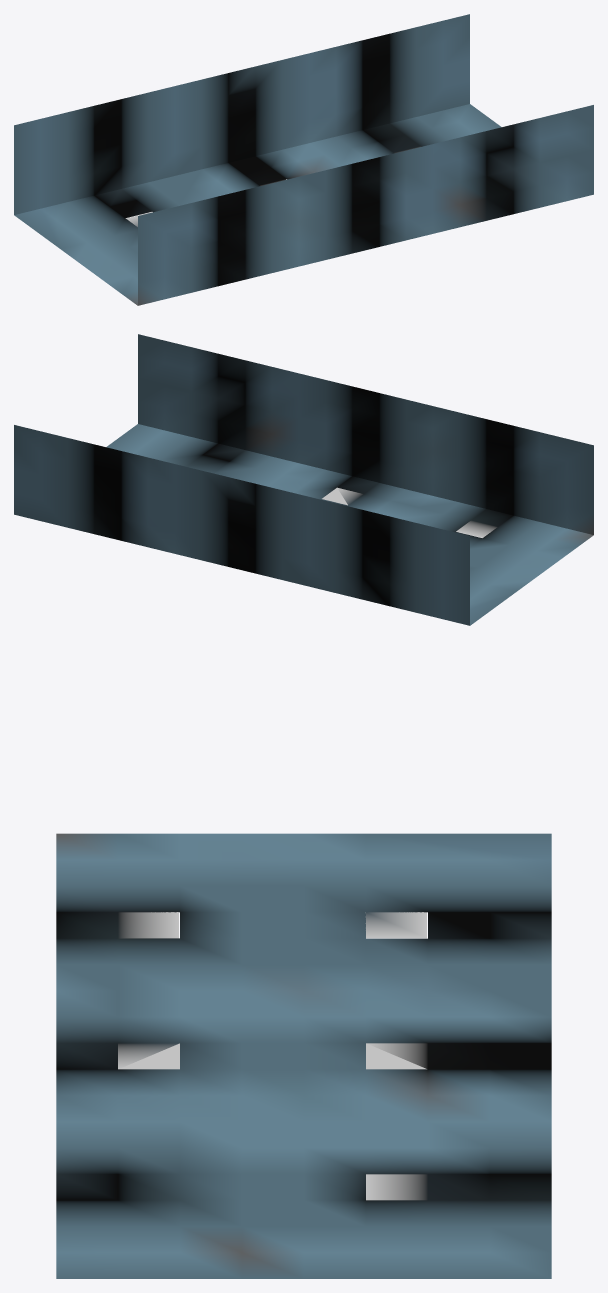
File: test_hall_vertex_paint.fbx
3 renders of one model, top to bottom at view 1: azimuth 30°, elevation 25°; view 2: azimuth 150°, elevation 25°; view 3: azimuth 270°, elevation 25°, orthographic. The views are drawn at different scales.
Visible parts, largest first — view 1: Grid; view 2: Grid; view 3: Grid.
Part boxes in pixels (x1,y1,x2,y2): Grid: (14, 14, 593, 305); Grid: (14, 334, 593, 625); Grid: (56, 833, 551, 1278).
Bounding box in the file's own units: 4.25 × 0.8 × 2.
